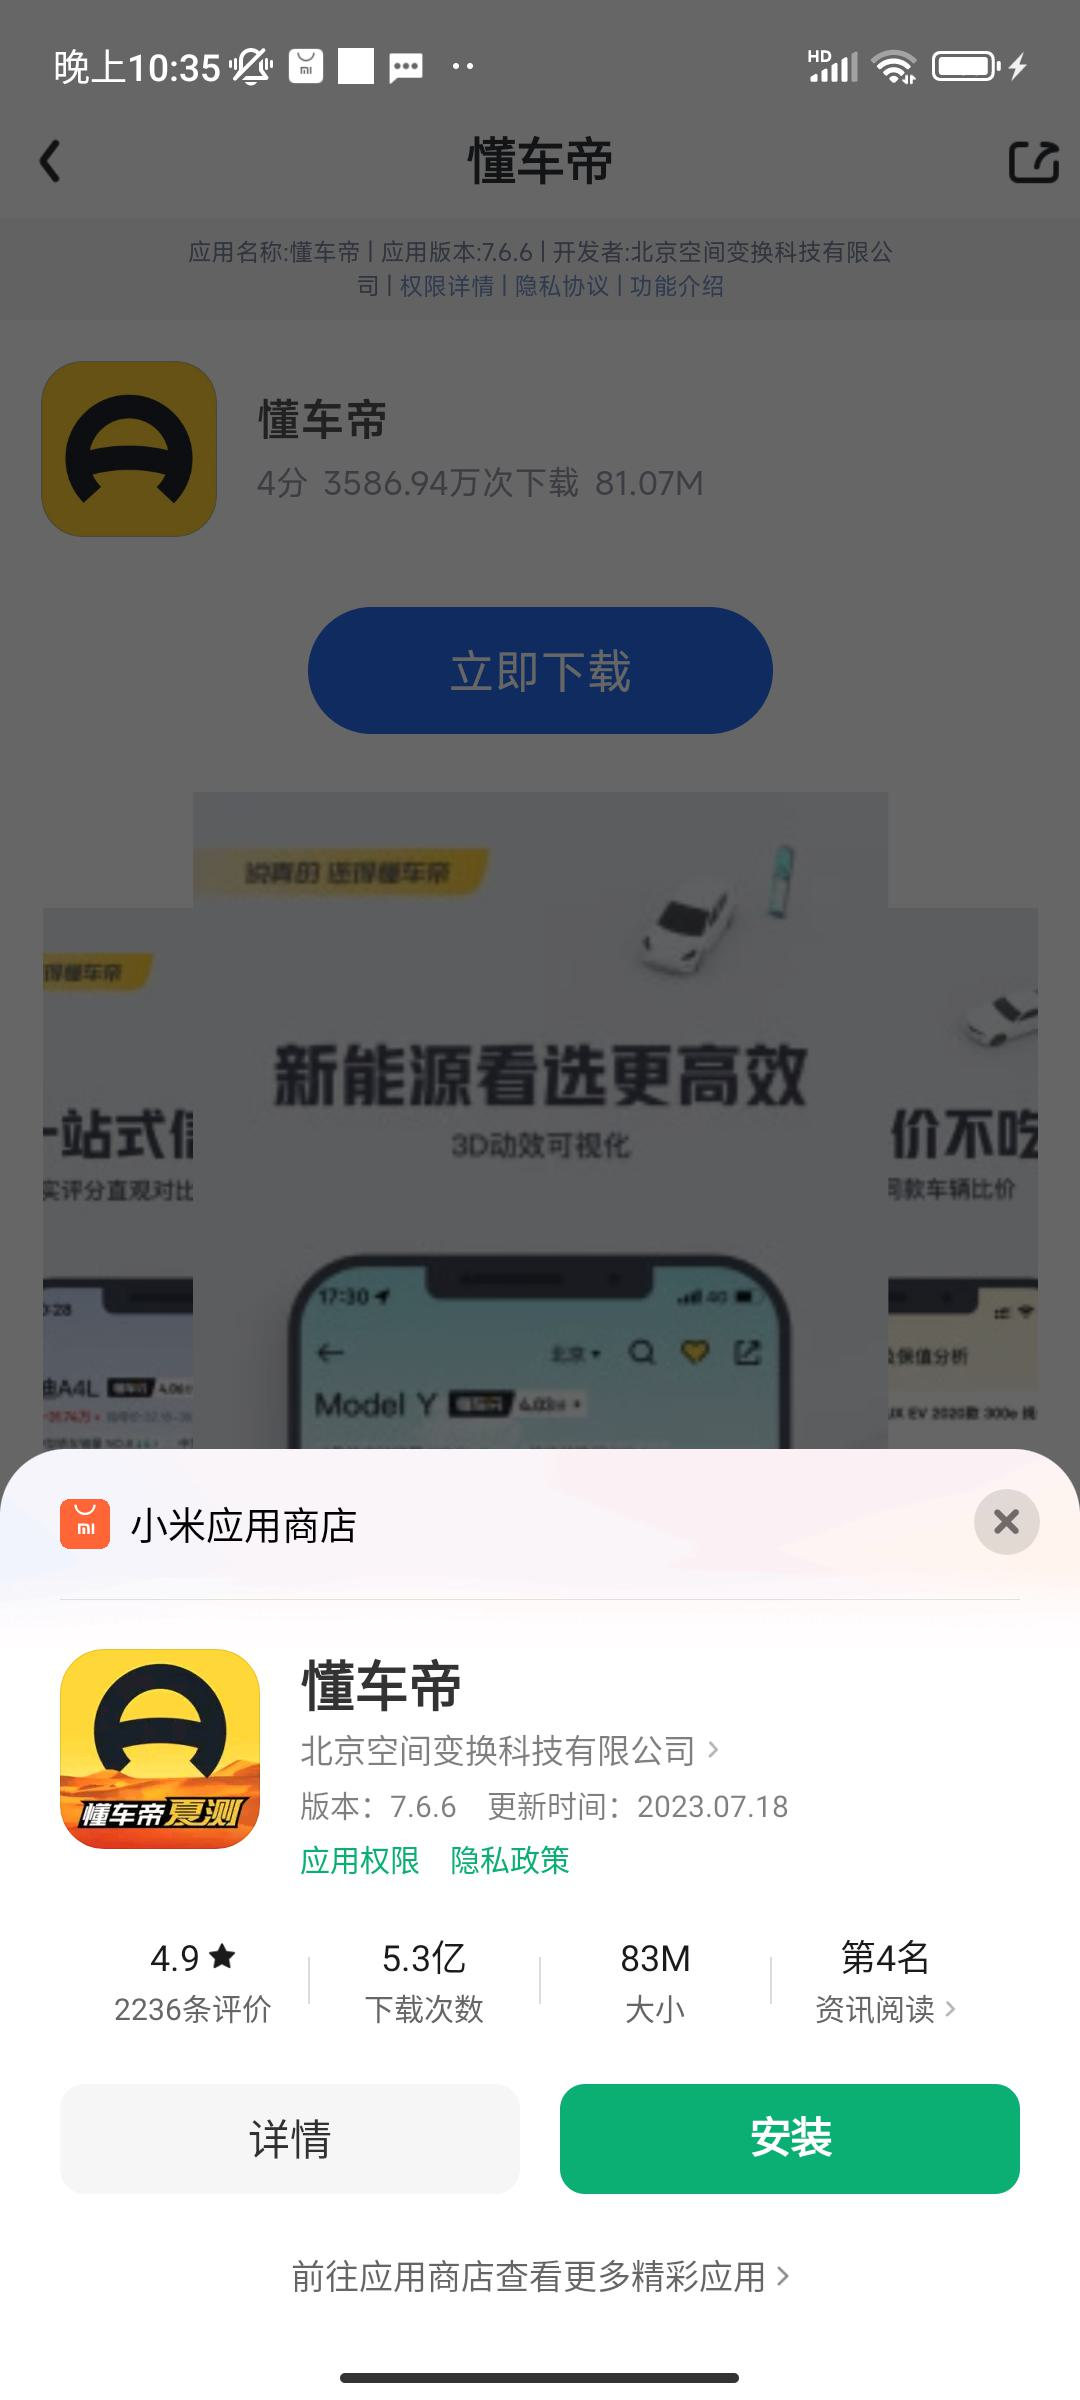ui_group: (6, 1456, 1056, 2366)
